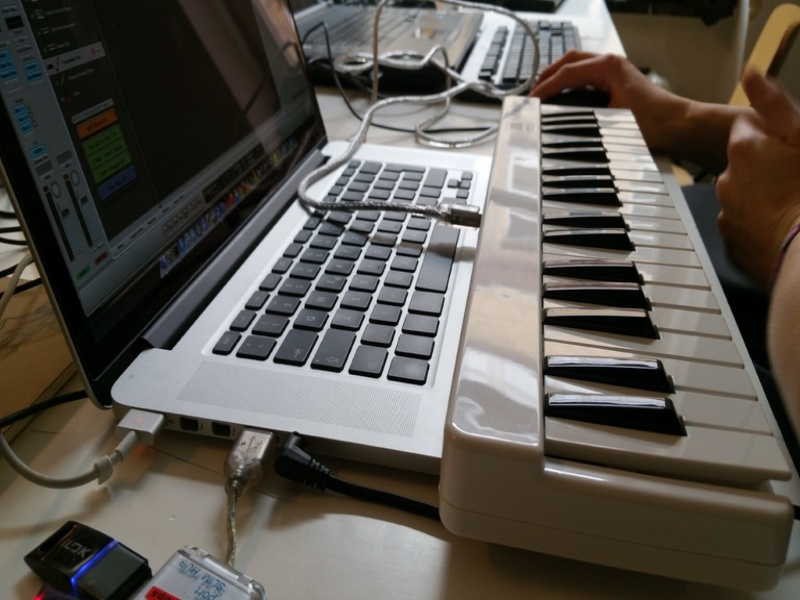laptop: (5, 11, 469, 461)
